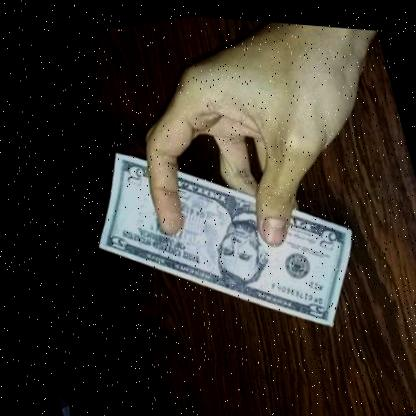five-front: (68, 101, 380, 369)
